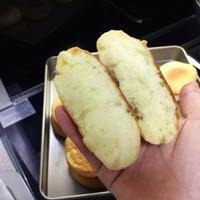biodegradable: (53, 46, 142, 171), (96, 29, 180, 146)
